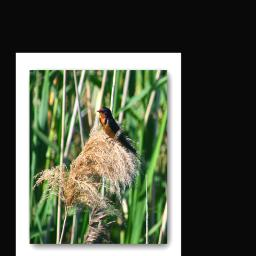Swallow: (95, 105, 142, 160)
